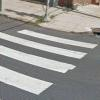Crosswalk: (5, 20, 85, 100)
